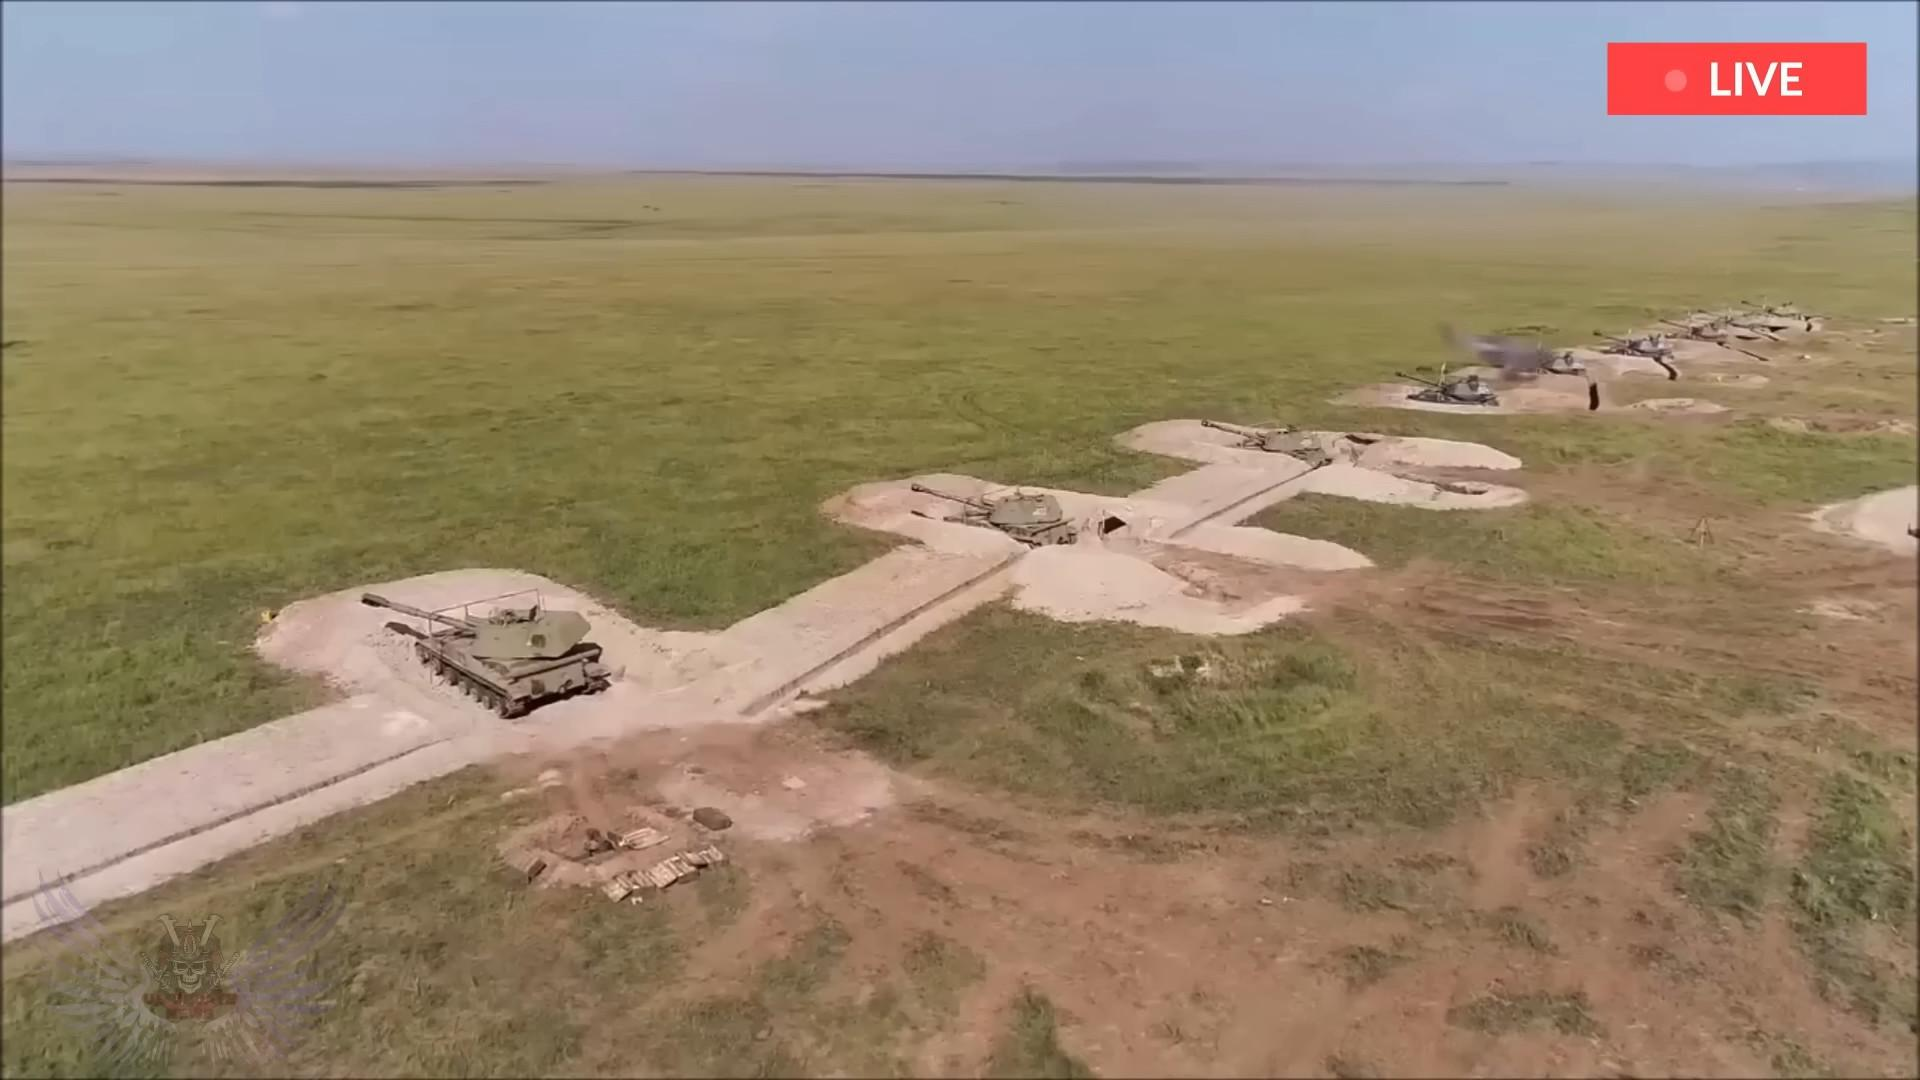tank: (362, 593, 612, 719), (911, 483, 1077, 551), (1201, 419, 1330, 470)
